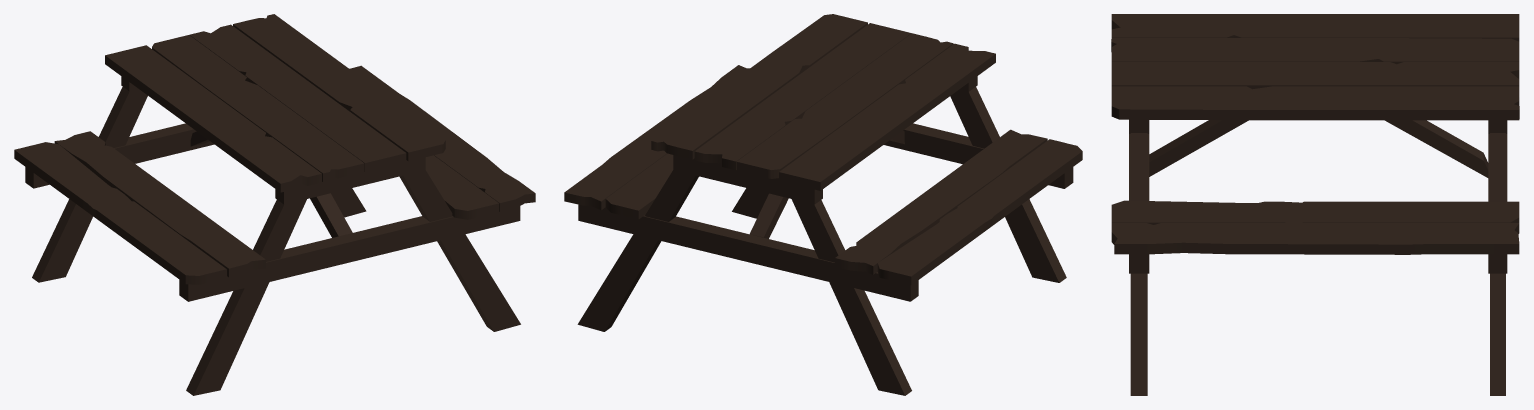
The model's file is Bench.fbx.
3 renders of one model, left to right at view 1: azimuth 30°, elevation 25°; view 2: azimuth 150°, elevation 25°; view 3: azimuth 270°, elevation 25°, orthographic. The views are drawn at different scales.
Parts seen in each view (by area): view 1: Bench; view 2: Bench; view 3: Bench.
Boxes of the visible parts, bbox=[...] form: Bench: bbox=[14, 14, 535, 395]; Bench: bbox=[564, 14, 1082, 395]; Bench: bbox=[1111, 14, 1519, 395].
Size of the model in its own units: 699 by 399 by 610.
